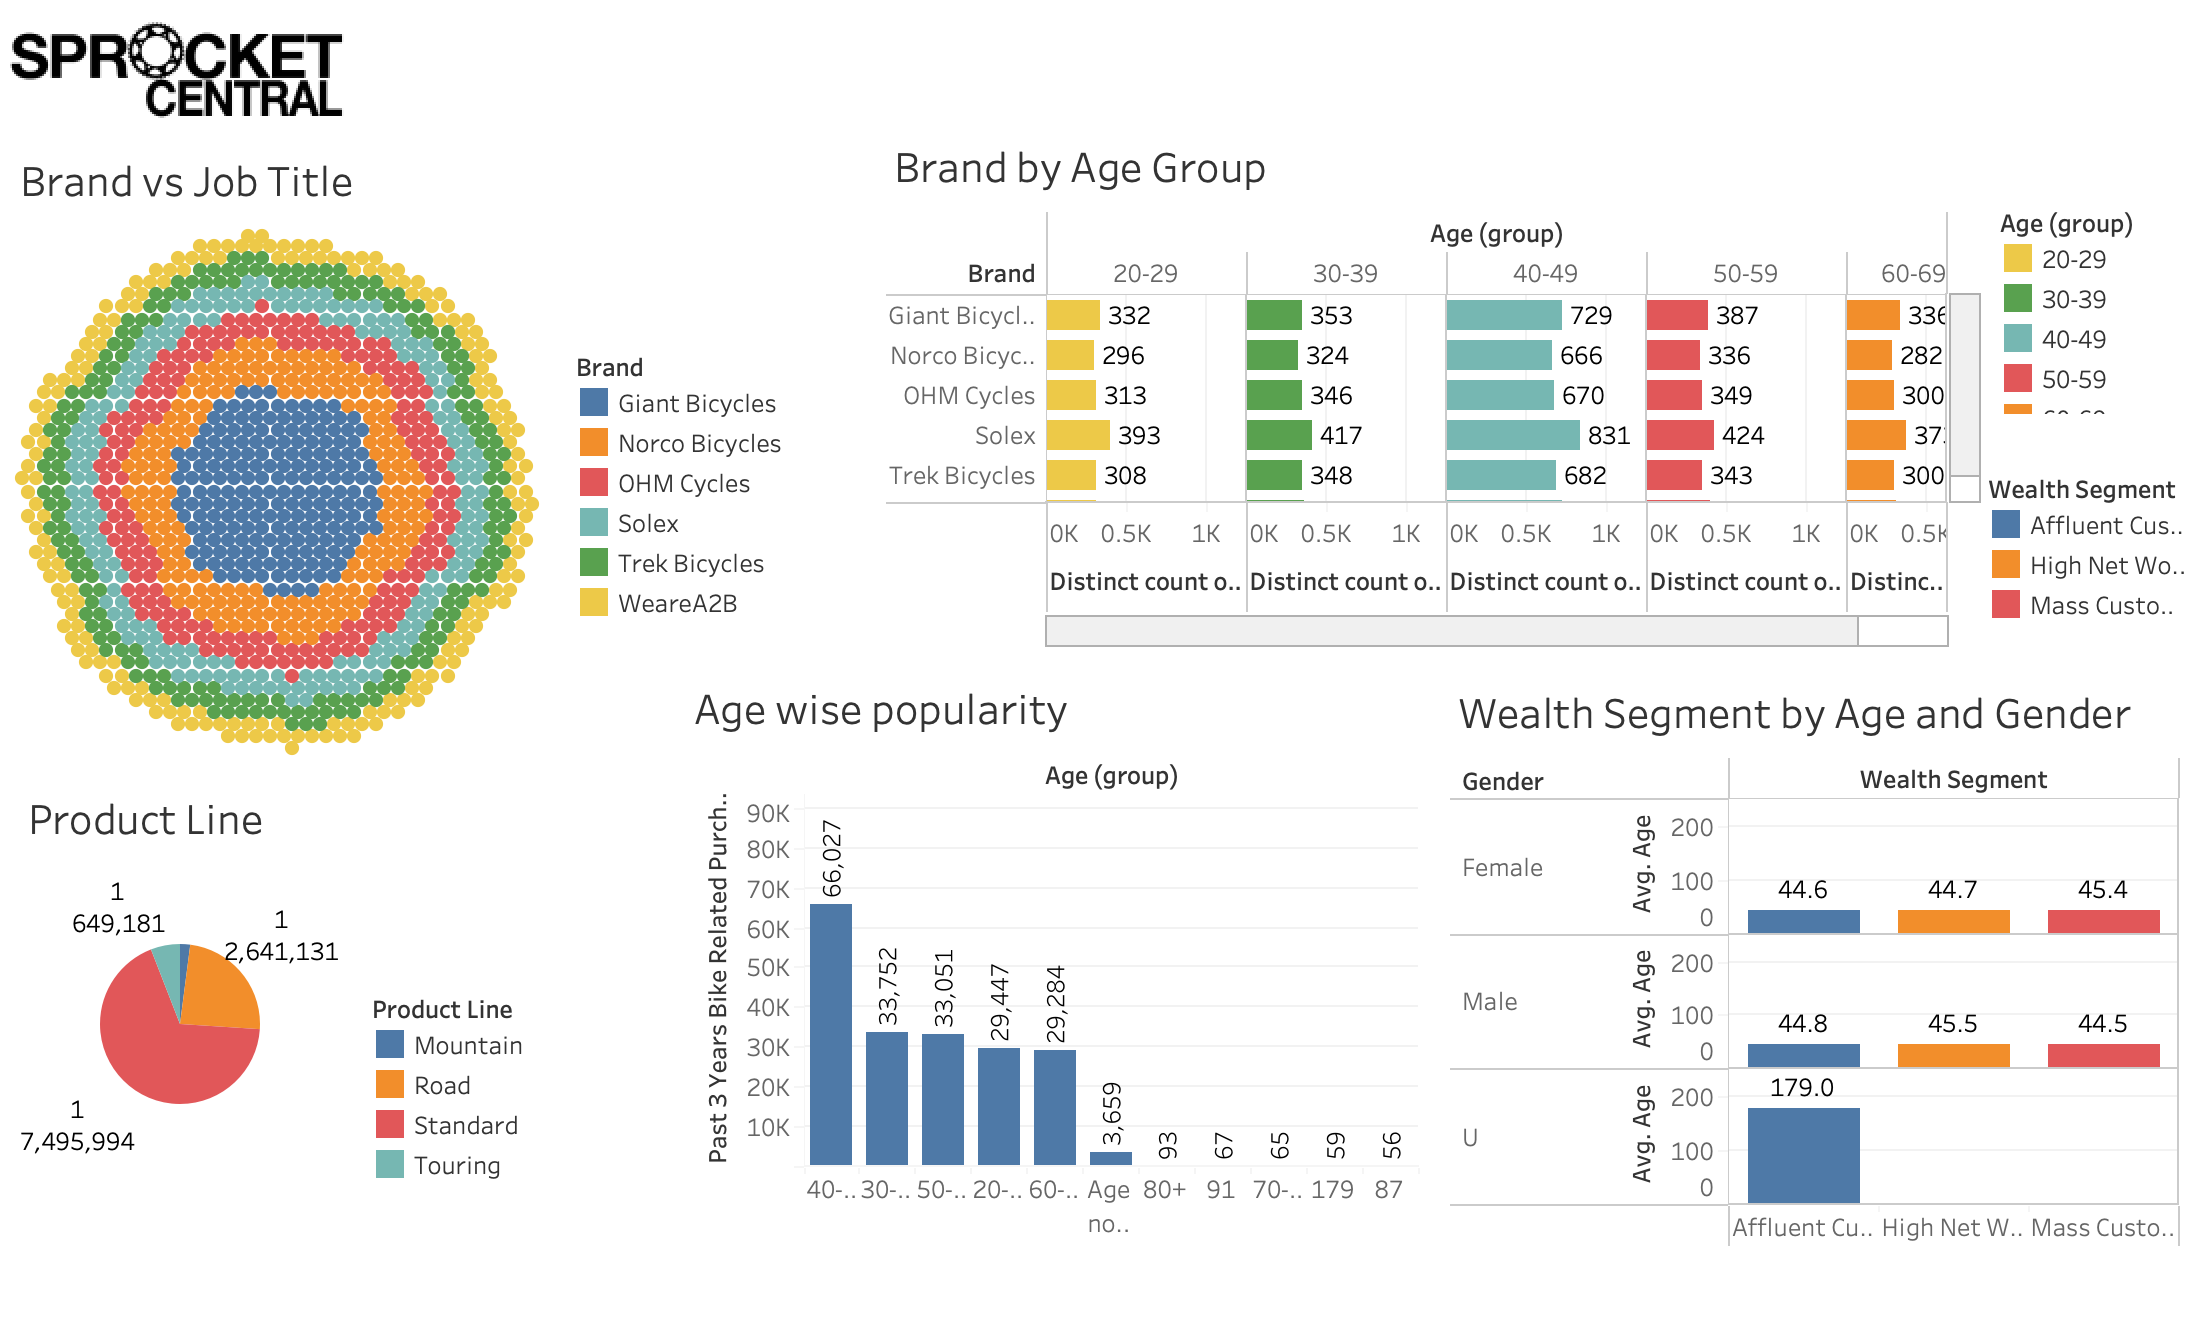

This screenshot's page, from the dashboard's own definition file:
{"tool":"tableau","page":{"name":"Dashboard 3","canvas":[1100,670],"ordinal":2},"visuals":[{"type":"image","param":"Image/sprocket_central_logo.png","box":[5,11,558,59]},{"type":"worksheet","title":"Sheet 18","mark":"Bar","rows":["brand"],"cols":["customer_id"],"box":[443,63,548,261]},{"type":"worksheet","title":"Sheet 16","mark":"Circle","box":[6,70,428,308]},{"type":"legend","title":"Sheet 18","param":"[federated.136httb09urkkz17tefcn1h7ouhg].[Age (group)]","box":[999,101,87,106]},{"type":"legend","title":"Sheet 16","param":"[federated.136httb09urkkz17tefcn1h7ouhg].[none:brand:nk]","box":[287,173,140,138]},{"type":"legend","title":"Sheet 20","param":"[federated.136httb09urkkz17tefcn1h7ouhg].[none:wealth_segment:nk]","box":[993,234,101,101]},{"type":"worksheet","title":"Sheet 19","mark":"Automatic","rows":["past_3_years_bike_related_purchases"],"box":[343,334,366,289]},{"type":"worksheet","title":"Sheet 20","mark":"Automatic","rows":["gender","Calculation_1067916119042015233"],"cols":["wealth_segment"],"box":[725,336,366,288]},{"type":"worksheet","title":"Sheet 17","mark":"Pie","box":[10,389,321,239]},{"type":"legend","title":"Sheet 17","param":"[federated.136httb09urkkz17tefcn1h7ouhg].[none:product_line:nk]","box":[185,494,135,124]}]}

Visuals, with their boxes in screenshot pixels (x1, y1, x2, y2), scaled from the page's 1100x670 canvas onto the 2200x1340 screenshot:
image: 10,22,1126,140
"Sheet 18" worksheet (Bar marks): 886,126,1982,648
"Sheet 16" worksheet (Circle marks): 12,140,868,756
"Sheet 18" legend: 1998,202,2172,414
"Sheet 16" legend: 574,346,854,622
"Sheet 20" legend: 1986,468,2188,670
"Sheet 19" worksheet: 686,668,1418,1246
"Sheet 20" worksheet: 1450,672,2182,1248
"Sheet 17" worksheet (Pie marks): 20,778,662,1256
"Sheet 17" legend: 370,988,640,1236
